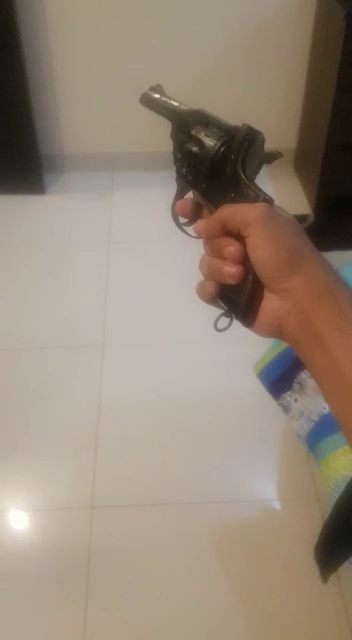handgun: (115, 62, 319, 376)
